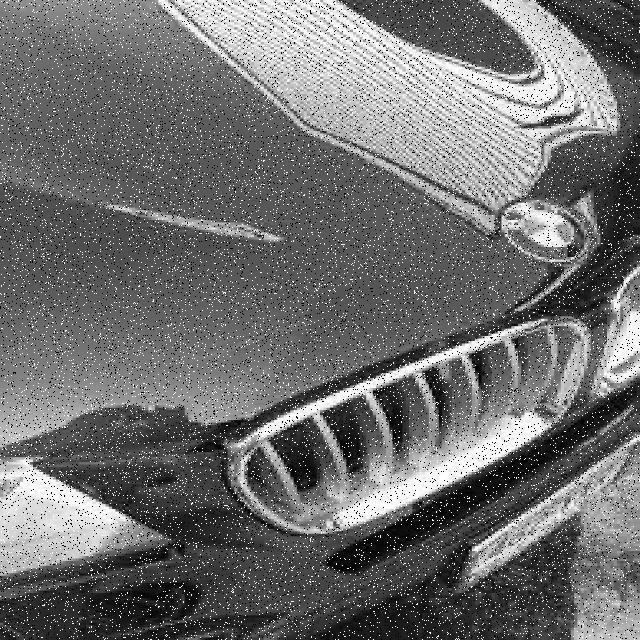bonnet-dent: (0, 3, 442, 591)
